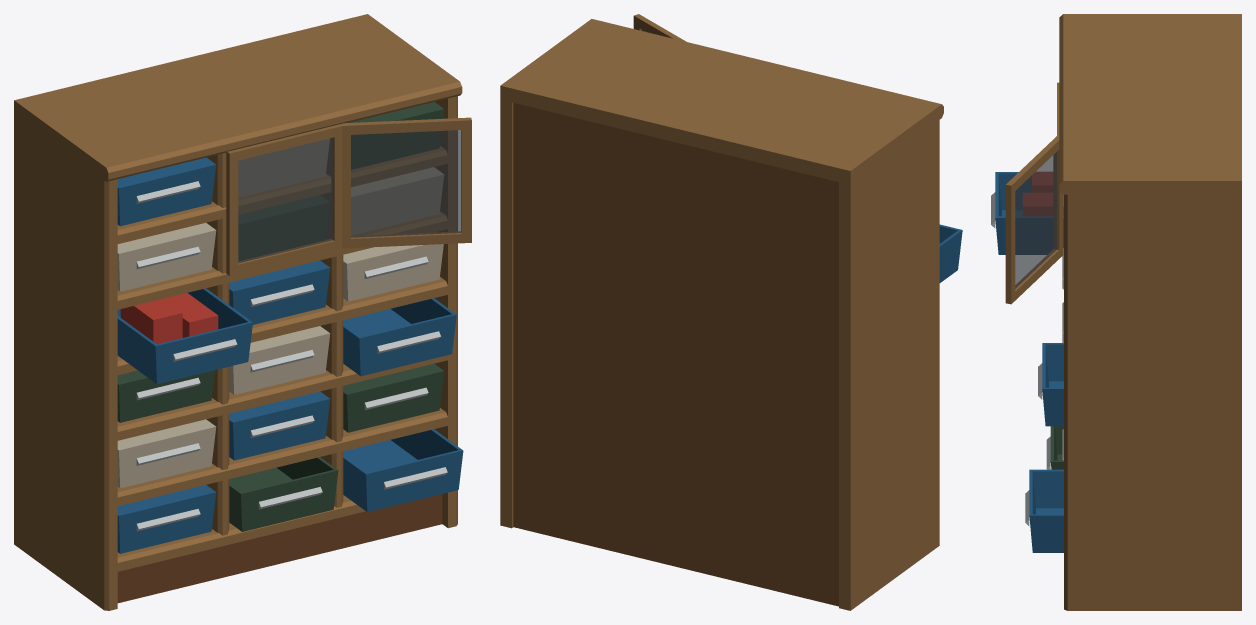
File: tray-cubby-unit-87c1e4.glb
The picture shows the model from 3 angles, left to right: view 1: azimuth 30°, elevation 25°; view 2: azimuth 150°, elevation 25°; view 3: azimuth 270°, elevation 25°; orthographic projection. The views are drawn at different scales.
Visible parts, largest first — view 1: carcass, door-a-pane, door-b-pane, door-b-frame, door-a-frame, tray-b-mesh, tray-c-mesh, tray-a-mesh; view 2: carcass; view 3: carcass, door-a-pane, door-a-frame.
Boxes of the visible parts, x1,y1,x2,y2 form: carcass: (14,14,463,610); door-a-pane: (351,130,461,237); door-b-pane: (238,137,333,262); door-b-frame: (226,124,342,275); door-a-frame: (340,117,471,248); tray-b-mesh: (229,391,330,460); tray-c-mesh: (117,485,216,553); tray-a-mesh: (117,370,215,422); carcass: (500,19,962,610); carcass: (991,14,1241,610); door-a-pane: (1015,152,1056,288); door-a-frame: (1005,135,1063,304).
Bounding box in the file's own units: 1 × 1.2 × 0.6345.
